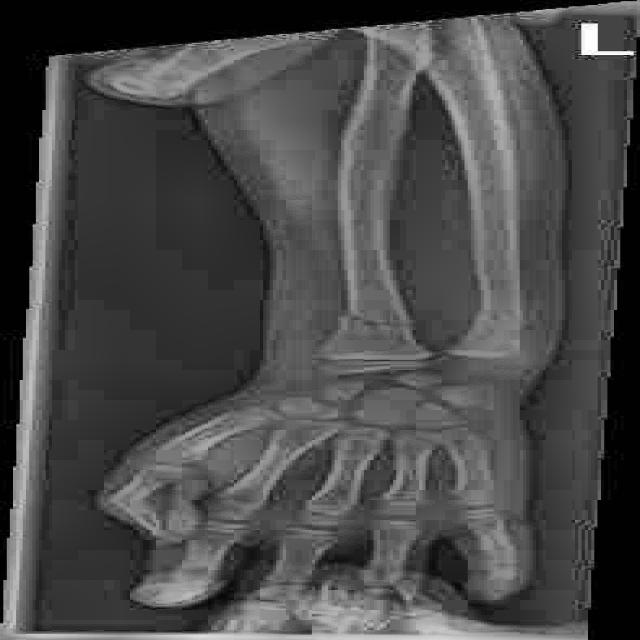forearm fracture: (287, 285, 451, 348)
